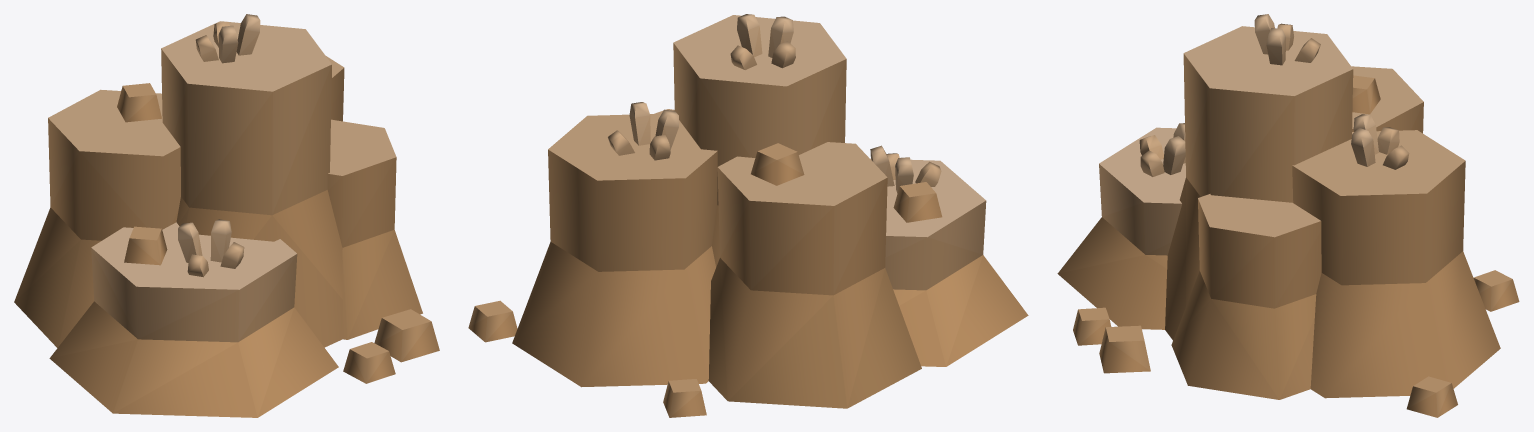
The model's file is kenney_pirate_rocks_sand_c.glb.
The picture shows the model from 3 angles, left to right: view 1: azimuth 30°, elevation 25°; view 2: azimuth 150°, elevation 25°; view 3: azimuth 270°, elevation 25°; orthographic projection. The views are drawn at different scales.
Parts seen in each view (by area): view 1: stone; view 2: stone; view 3: stone.
Boxes of the visible parts, x1,y1,x2,y2 form: stone: [14, 14, 439, 417]; stone: [468, 14, 1028, 417]; stone: [1057, 14, 1519, 417].
Bounding box in the file's own units: 3.71 × 2.61 × 3.72.
